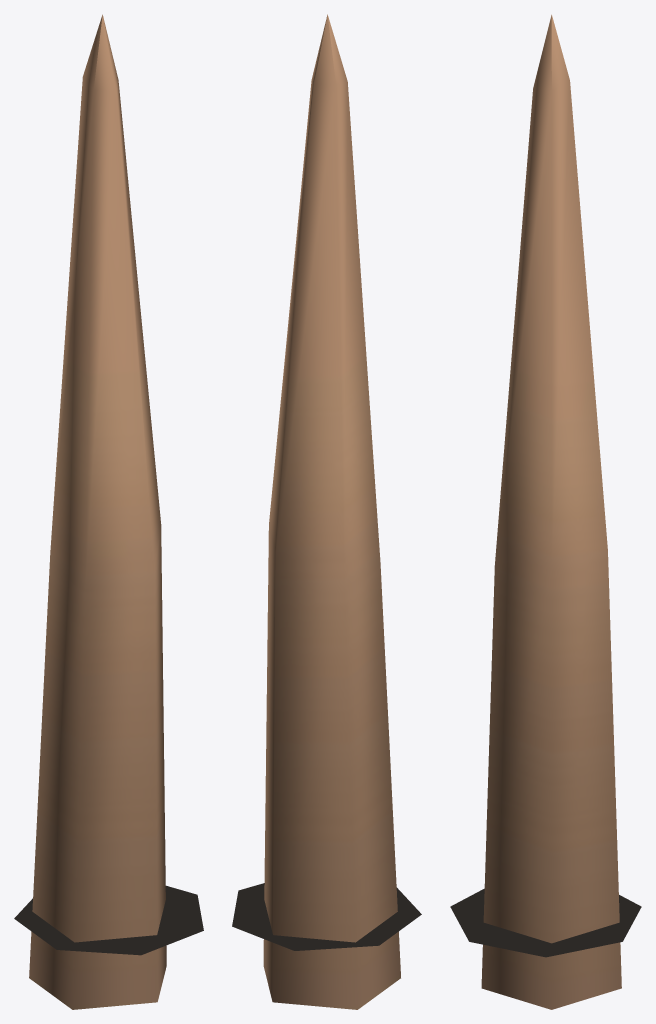
The model's file is pike.fbx.
3 views of the same model, side by side, from view 1: azimuth 30°, elevation 25°; view 2: azimuth 150°, elevation 25°; view 3: azimuth 270°, elevation 25° (orthographic).
Parts seen in each view (by area): view 1: pike, hole; view 2: pike, hole; view 3: pike, hole.
Boxes of the visible parts, bbox=[...] form: pike: bbox=[29, 14, 166, 1009]; hole: bbox=[14, 885, 203, 955]; pike: bbox=[263, 14, 400, 1009]; hole: bbox=[232, 883, 421, 950]; pike: bbox=[481, 14, 621, 1009]; hole: bbox=[450, 888, 641, 957].
Bounding box in the file's own units: 11.79 × 67.21 × 12.1.
Materials: 1 (1 with a texture image).
